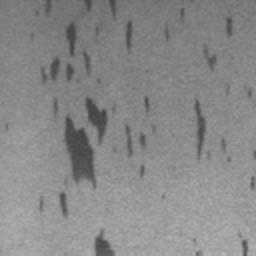Red iron sheet: (27, 0, 159, 218), (196, 100, 256, 189), (200, 17, 234, 65), (163, 6, 188, 41), (178, 230, 205, 256), (95, 229, 115, 255), (224, 83, 253, 99), (237, 228, 247, 256), (157, 192, 169, 200), (4, 120, 10, 133)
